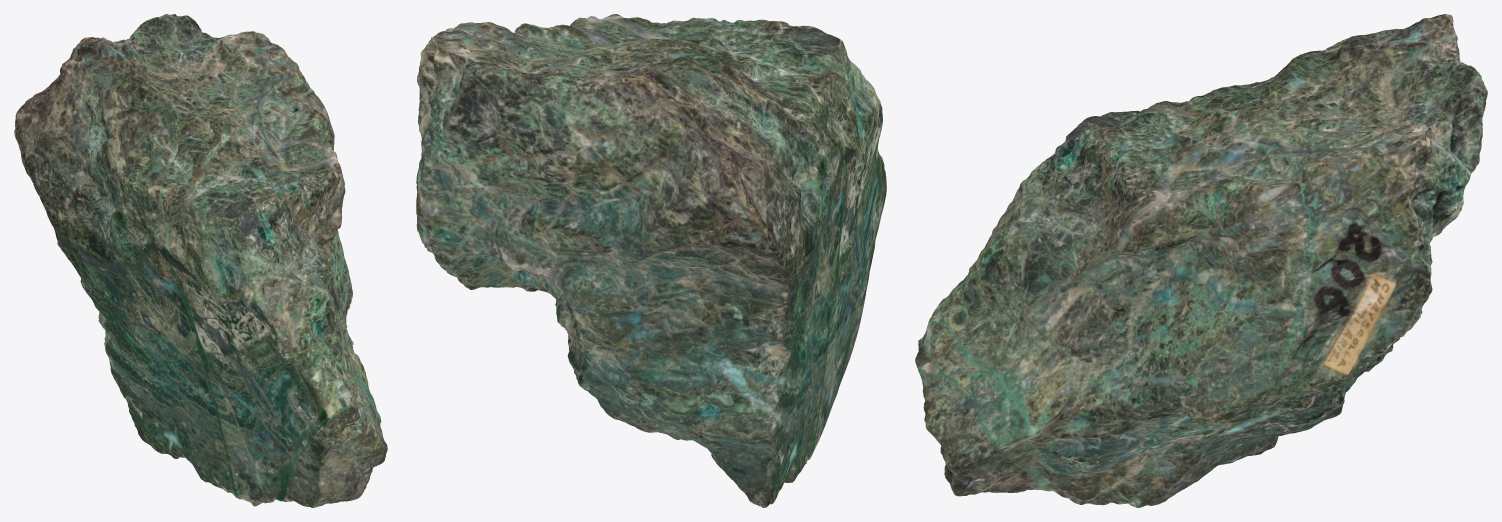
Rendered from chrysocolla.glb.
3 renders of one model, left to right at view 1: azimuth 30°, elevation 25°; view 2: azimuth 150°, elevation 25°; view 3: azimuth 270°, elevation 25°, orthographic. The views are drawn at different scales.
Parts seen in each view (by area): view 1: Object_2; view 2: Object_2; view 3: Object_2.
Part boxes in pixels (left/top/right/bottom): Object_2: left=14, top=14, right=387, bottom=507; Object_2: left=416, top=14, right=886, bottom=507; Object_2: left=915, top=14, right=1487, bottom=507.
Bounding box in the file's own units: 1.8 × 2.46 × 2.7.
Materials: 1 (1 with a texture image).
